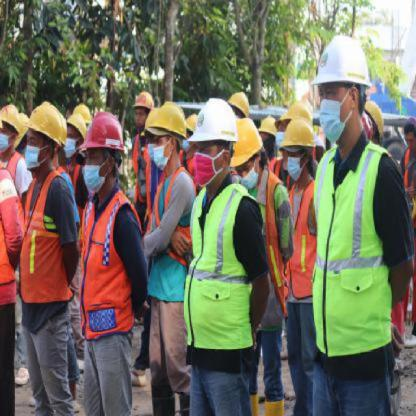person: (308, 20, 416, 407), (182, 91, 275, 411), (73, 103, 150, 410), (14, 96, 84, 411), (139, 95, 199, 415), (274, 96, 321, 390)
red-helm: (86, 107, 128, 161)
vest-helm: (308, 141, 396, 360), (183, 182, 258, 360), (76, 193, 137, 343), (16, 167, 76, 310), (284, 181, 318, 292)
white-helm: (309, 31, 377, 95), (189, 96, 239, 148)
yellow-helm: (142, 96, 192, 142), (21, 100, 65, 148), (280, 118, 318, 152)
